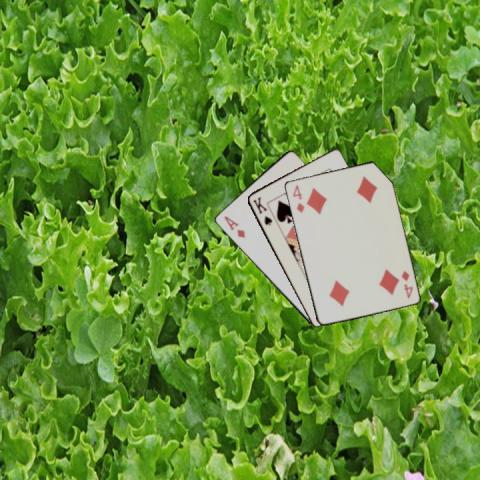4d: (289, 182, 306, 215), (399, 268, 414, 300)
Ad: (220, 213, 246, 239)
Ks: (250, 194, 273, 227)
